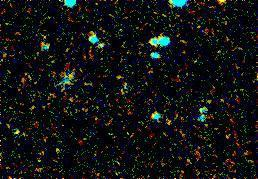star: (207, 0, 237, 19)
